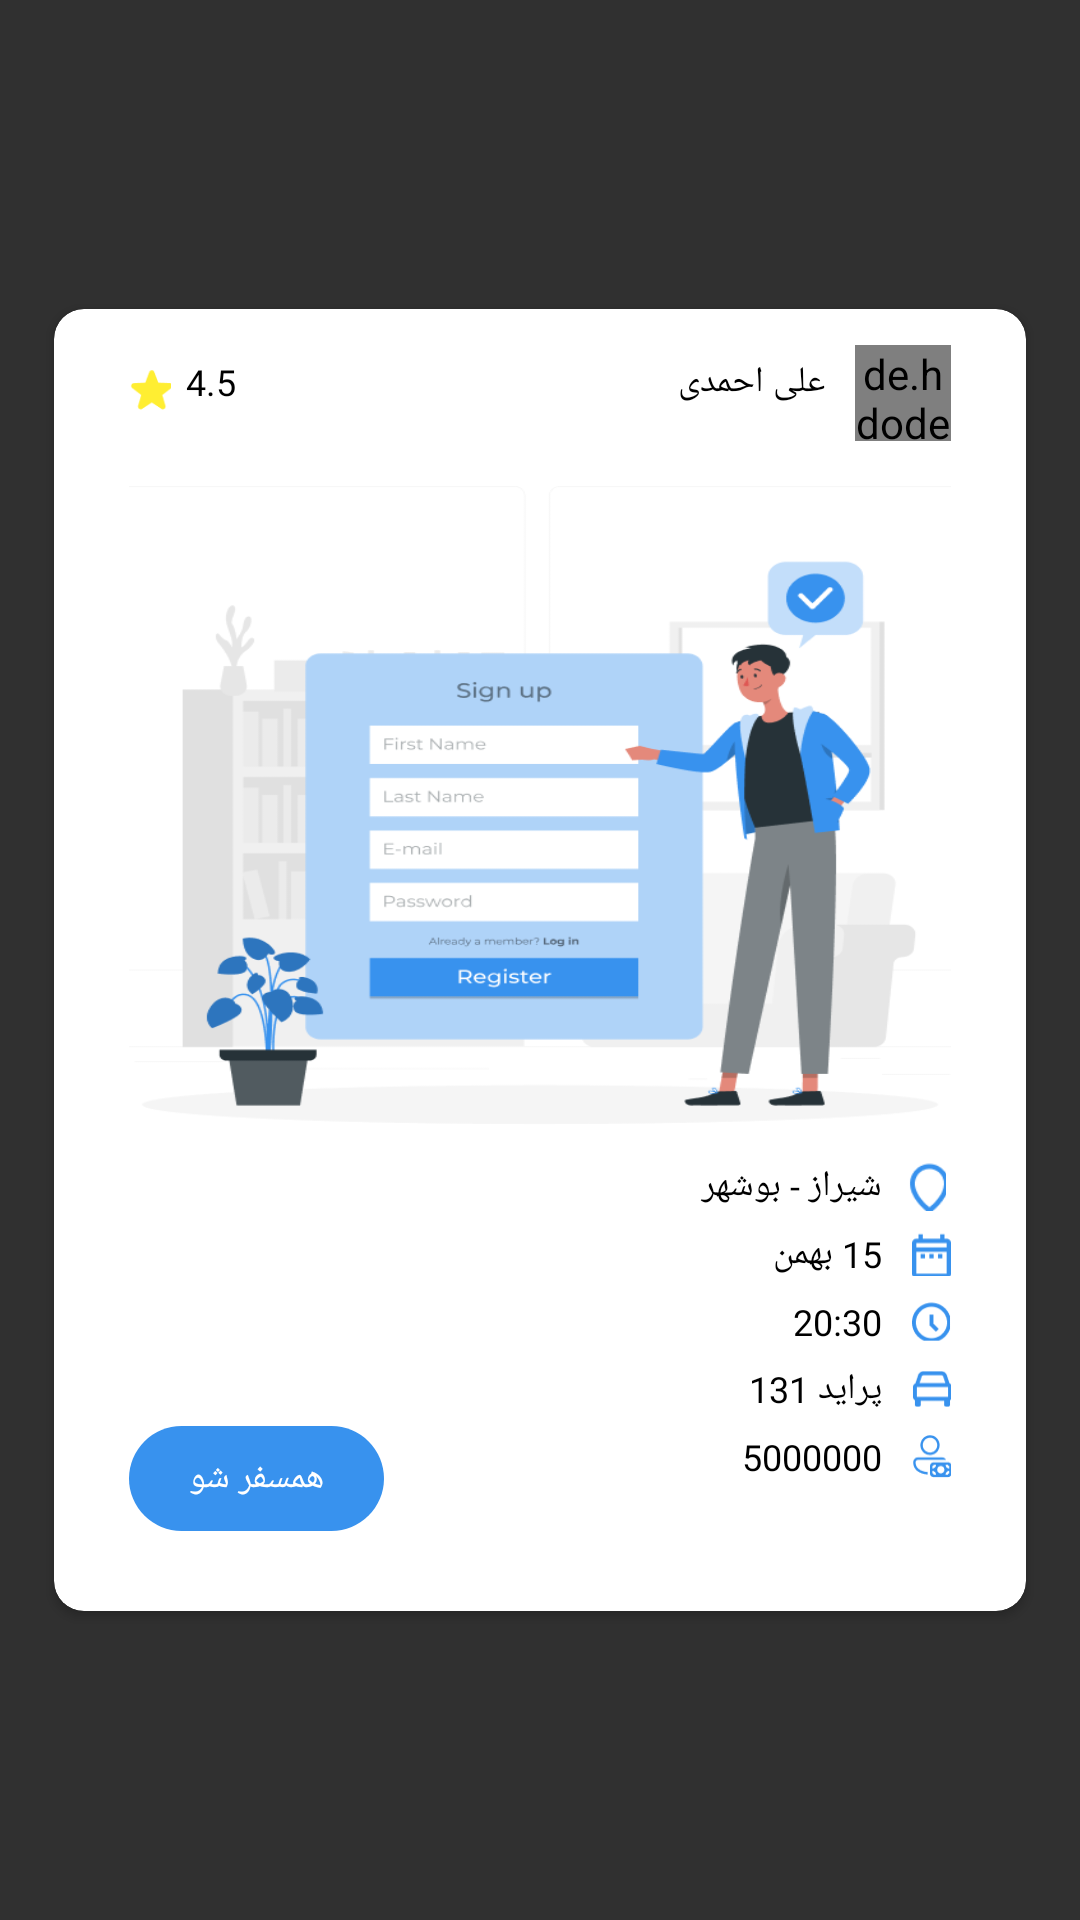

Point at icon controls on the screen. Image size 1080px x 1920px, points as (x=x, y=y).
car type: (x=932, y=1389)
date: (x=931, y=1255)
location: (x=928, y=1187)
price: (x=932, y=1456)
star: (x=151, y=390)
time: (x=931, y=1321)
